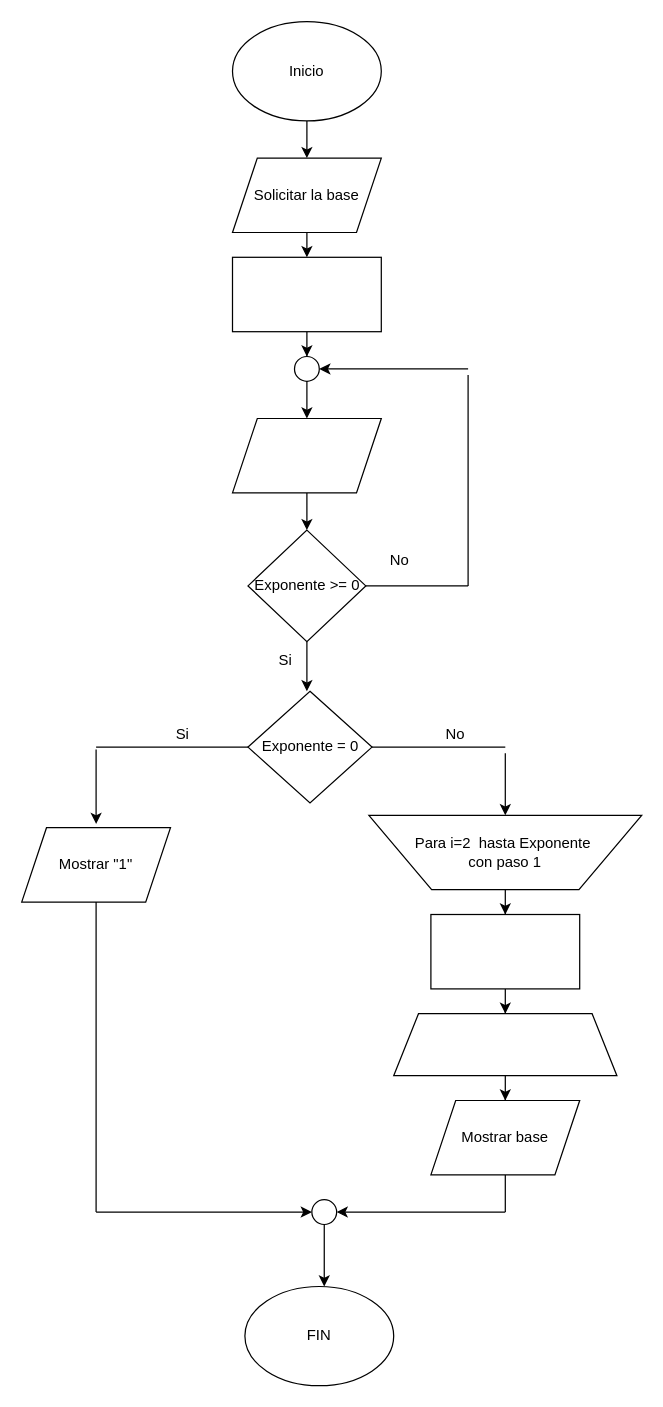
The diagram is 663 pixels wide and 1407 high, and some of its shapes have lost their labels. The centre of each missing label's shape, as x and y in pixels:
"base = base2 * base" belongs at point 505,951.
"base2 = base" belongs at point 306,294.
"FIN PARA" belongs at point 504,1044.
"Solicitar el Exponente" belongs at point 306,455.
